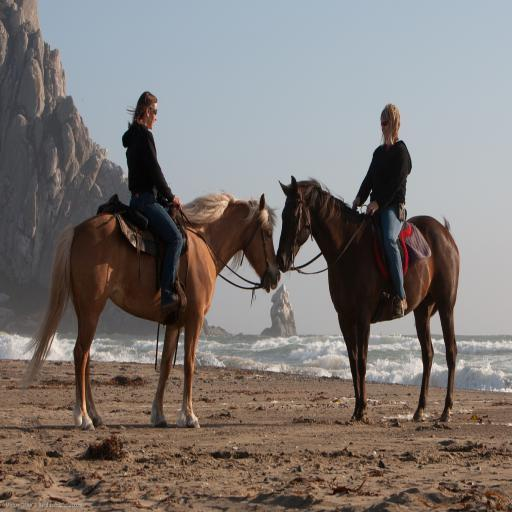horse: (18, 192, 280, 434), (278, 172, 462, 424)
